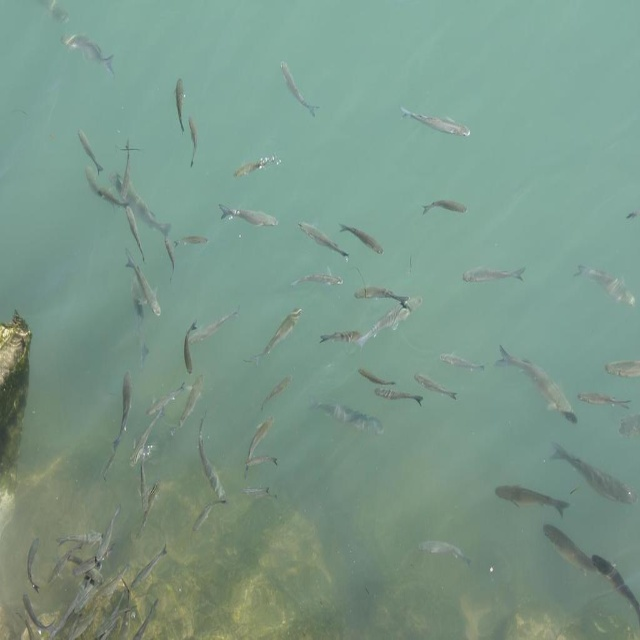Fish: (16, 0, 640, 640)
